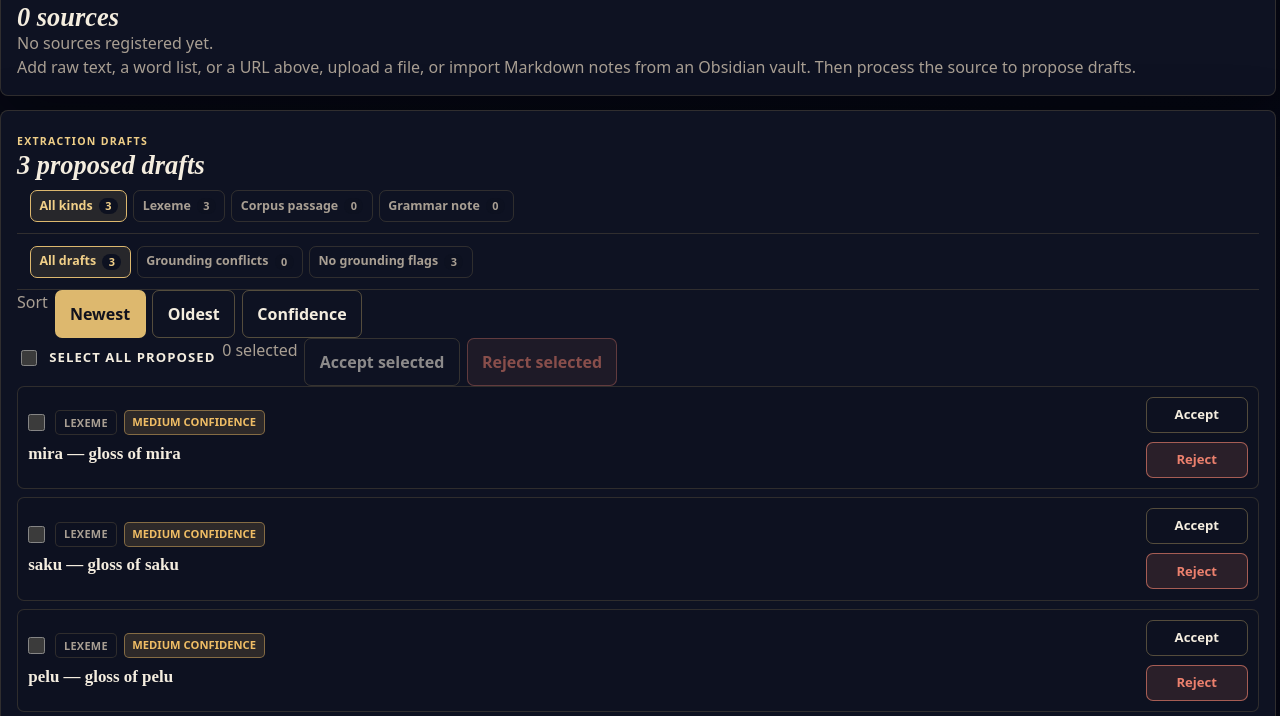
Scenario: IngestView bulk draft review › selects every proposed draft with the select-all control and rejects in bulk
(page scrolled)
expect the heading "3 proposed drafts" is shown: met, box x1=17 y1=151 x2=205 y2=179
What coordinates should you click on to do the following:
click the checkbox named "Select all proposed drafts"
I would click on:
 (29, 358)
Its box is x1=21 y1=350 x2=37 y2=366.
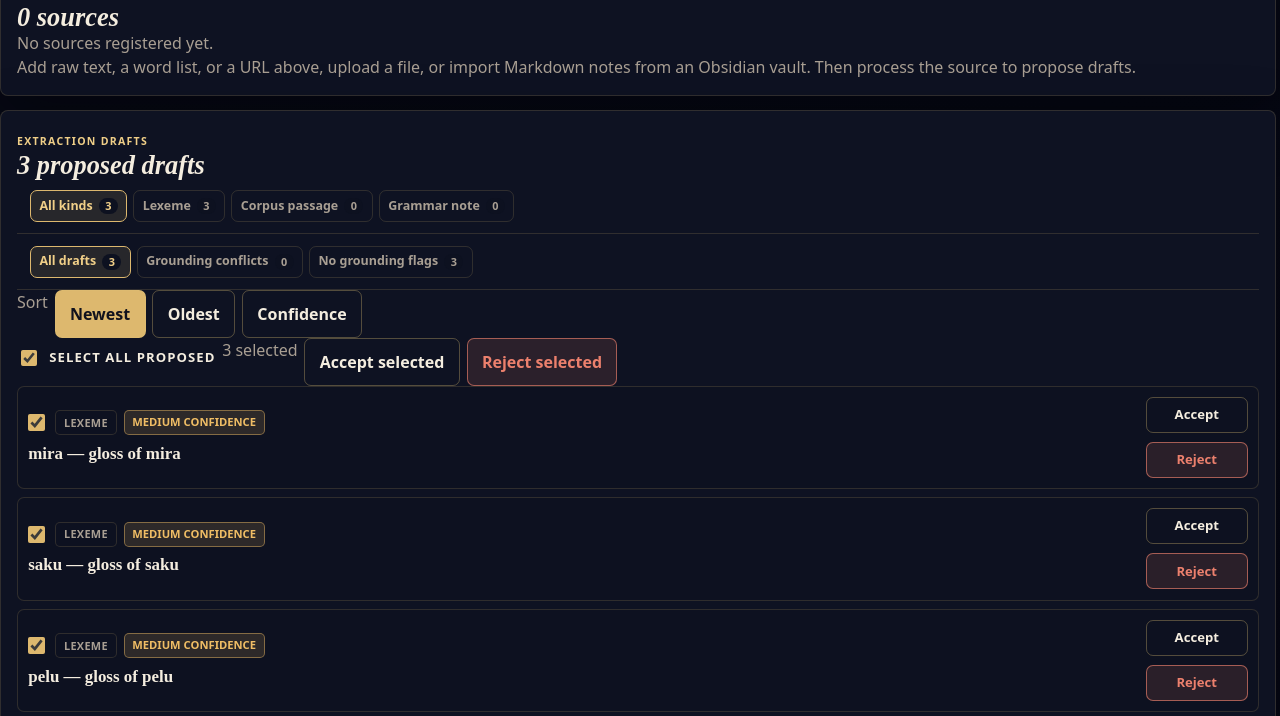
expect the text "3 selected" is shown: met, box x1=222 y1=339 x2=298 y2=361
What coordinates should you click on to do the following:
click the button "Reject selected"
I would click on:
 (542, 362)
Its box is x1=466 y1=338 x2=618 y2=386.
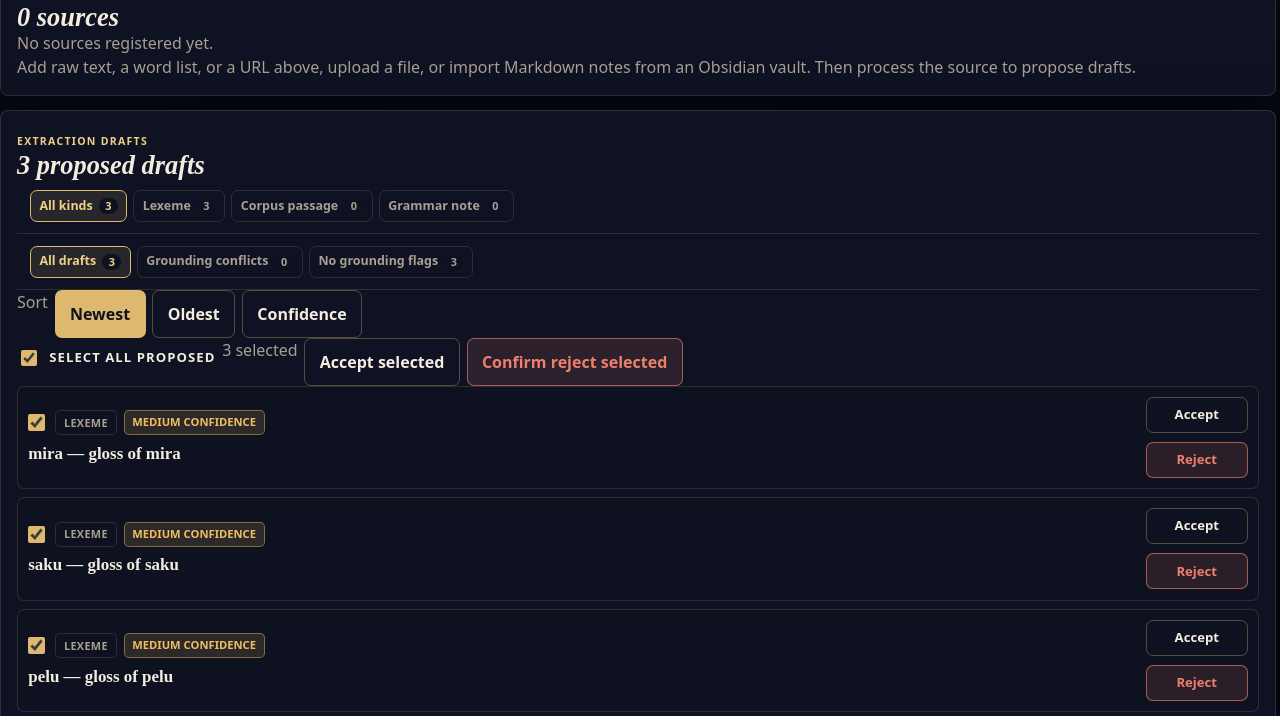
What coordinates should you click on to do the following:
click the button "Confirm reject selected"
I would click on:
 (575, 362)
Its box is x1=466 y1=338 x2=683 y2=386.
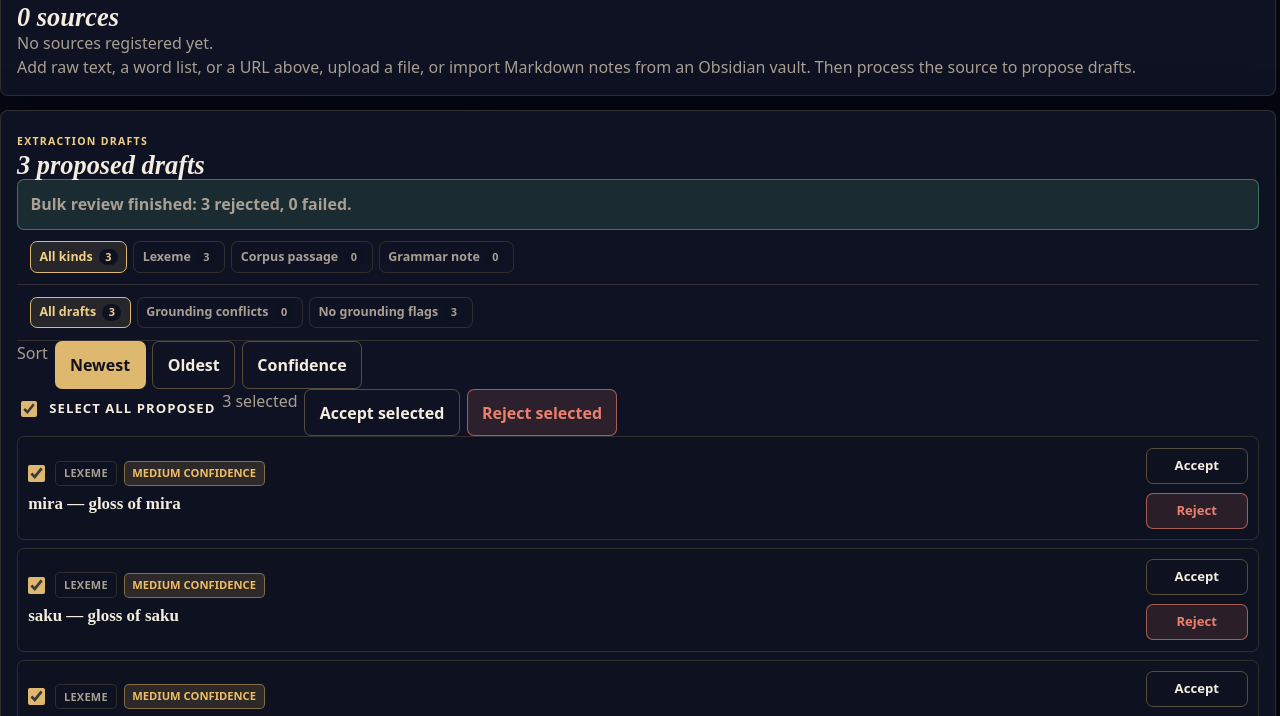
expect the text "Bulk review finished: 3 rejected, 0 failed." is shown: met, box x1=17 y1=179 x2=1259 y2=230
